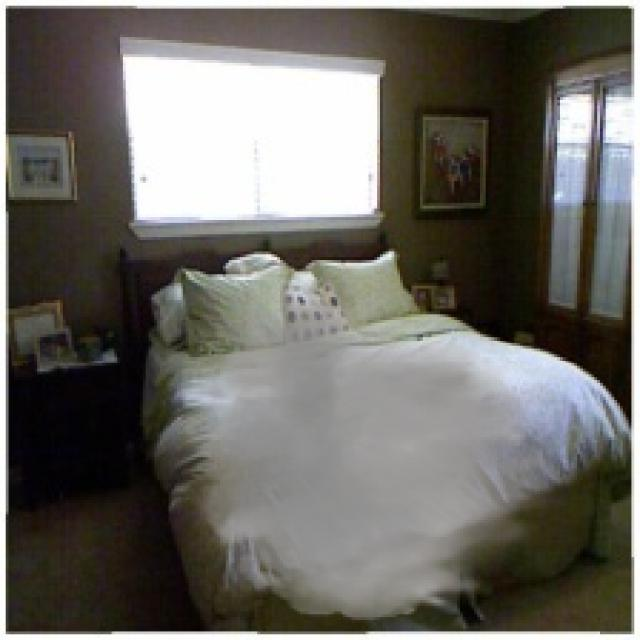smoke: (163, 268, 583, 628)
